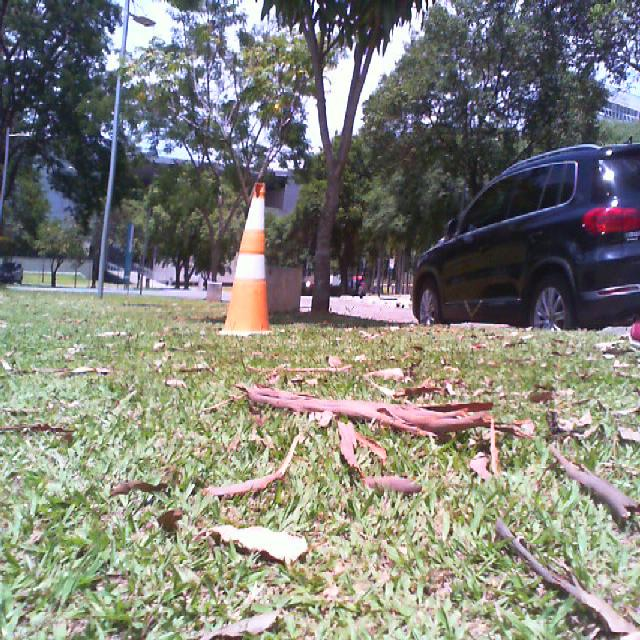cone: (214, 181, 276, 336)
